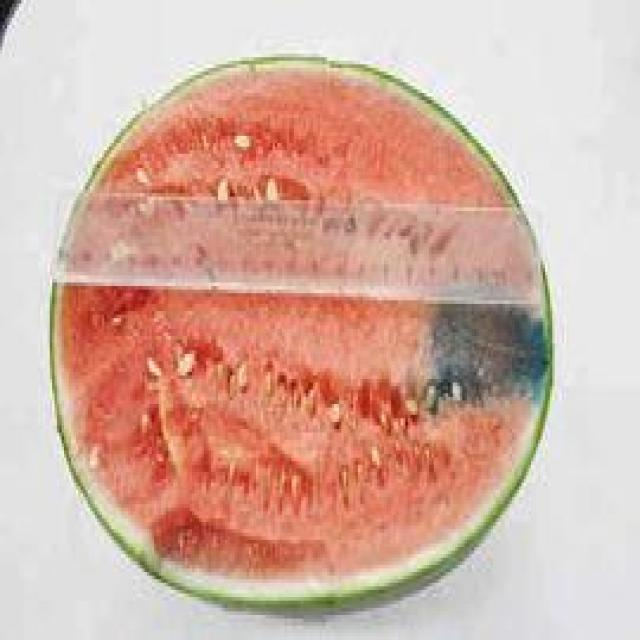Wet Waste: (43, 54, 557, 626)
